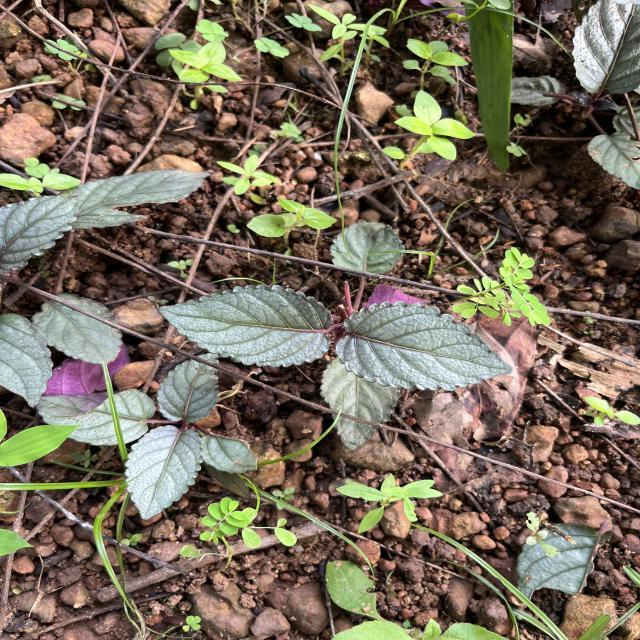Hemigraphis colorata: (333, 298, 517, 394), (154, 282, 335, 369), (57, 168, 213, 232), (123, 422, 206, 521), (32, 389, 158, 447), (0, 190, 82, 277), (154, 352, 222, 424)
